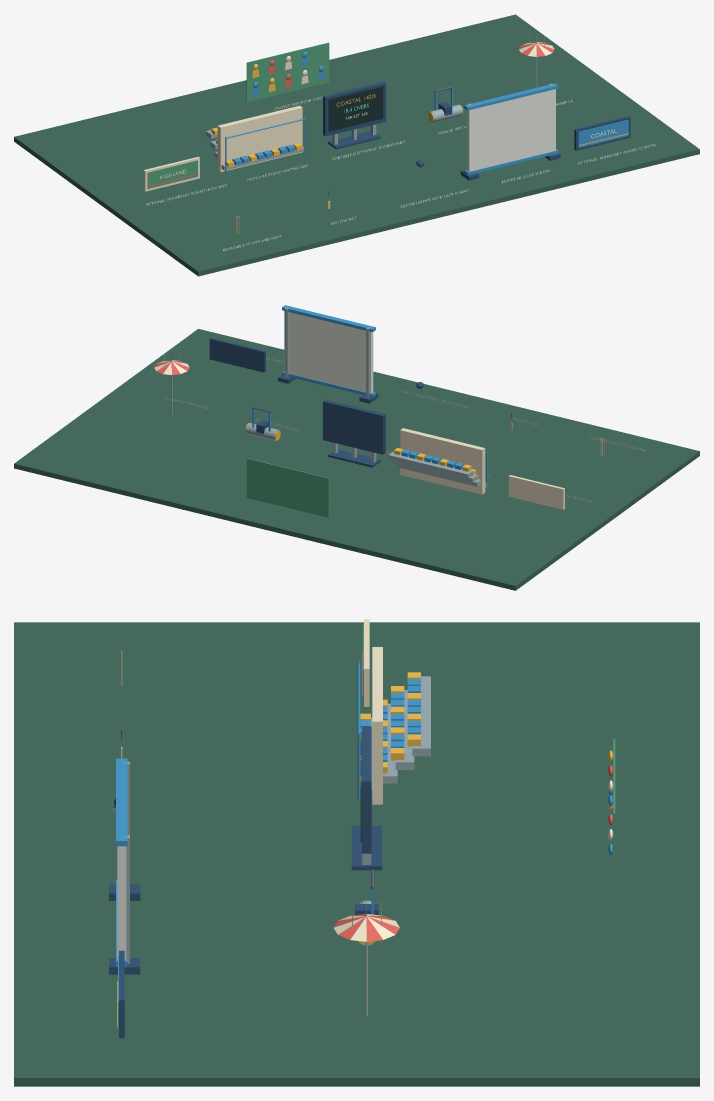
The model's file is a5-props-gallery.glb.
The picture shows the model from 3 angles, top to bottom: view 1: azimuth 30°, elevation 25°; view 2: azimuth 150°, elevation 25°; view 3: azimuth 270°, elevation 25°; orthographic projection. The views are drawn at different scales.
Parts seen in each view (by area): view 1: Gallery ground, Sight screen | panel, Stand | rear wall, Crowd card | backing, Scoreboard | display, Scoreboard | frame, Coastal board | inset, Highland board | inset, Sight screen | top rail, Coastal board | fascia, Highland board | fascia, Scoreboard | ground shoe (+1 smaller); view 2: Gallery ground, Sight screen | panel, Crowd card | backing, Stand | rear wall, Scoreboard | frame, Coastal board | fascia, Highland board | fascia, Stand | bench row 4, Sight screen | top rail; view 3: Gallery ground, Stand | rear wall, Umbrella | alternating canopy panels, Scoreboard | frame, Sight screen | panel, Sight screen | top rail, Scoreboard | ground shoe, Stand | bench row 4.
Boxes of the visible parts, box(x1,y1,x2,y2) form: Gallery ground: box(14, 14, 699, 276); Sight screen | panel: box(467, 89, 555, 171); Stand | rear wall: box(217, 105, 302, 172); Crowd card | backing: box(246, 42, 329, 102); Scoreboard | display: box(328, 86, 383, 131); Scoreboard | frame: box(323, 81, 385, 136); Coastal board | inset: box(578, 119, 628, 147); Highland board | inset: box(147, 160, 197, 188); Sight screen | top rail: box(464, 83, 558, 110); Coastal board | fascia: box(574, 116, 630, 150); Highland board | fascia: box(143, 156, 199, 191); Scoreboard | ground shoe: box(328, 131, 380, 149); Gallery ground: box(14, 329, 699, 590); Sight screen | panel: box(284, 311, 373, 393); Crowd card | backing: box(246, 458, 329, 517); Stand | rear wall: box(400, 428, 485, 494); Scoreboard | frame: box(323, 399, 385, 454); Coastal board | fascia: box(209, 337, 265, 372); Highland board | fascia: box(508, 475, 564, 509); Stand | bench row 4: box(388, 451, 473, 478); Sight screen | top rail: box(282, 305, 375, 332); Gallery ground: box(14, 622, 699, 1086); Stand | rear wall: box(372, 647, 382, 804); Umbrella | alternating canopy panels: box(333, 914, 399, 941); Scoreboard | frame: box(362, 726, 371, 853); Sight screen | panel: box(117, 846, 126, 959); Sight screen | top rail: box(116, 758, 127, 846); Scoreboard | ground shoe: box(351, 826, 381, 870); Stand | bench row 4: box(412, 676, 430, 756).
Size of the model in its own units: 22 by 3.2 by 14.
